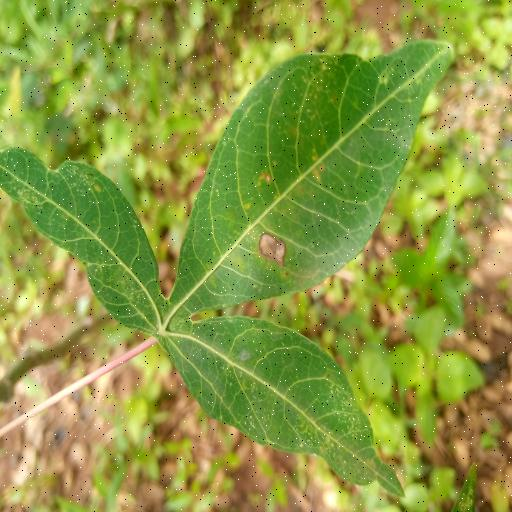Cassava_Brown_Leaf_Spot: (4, 42, 468, 494)
